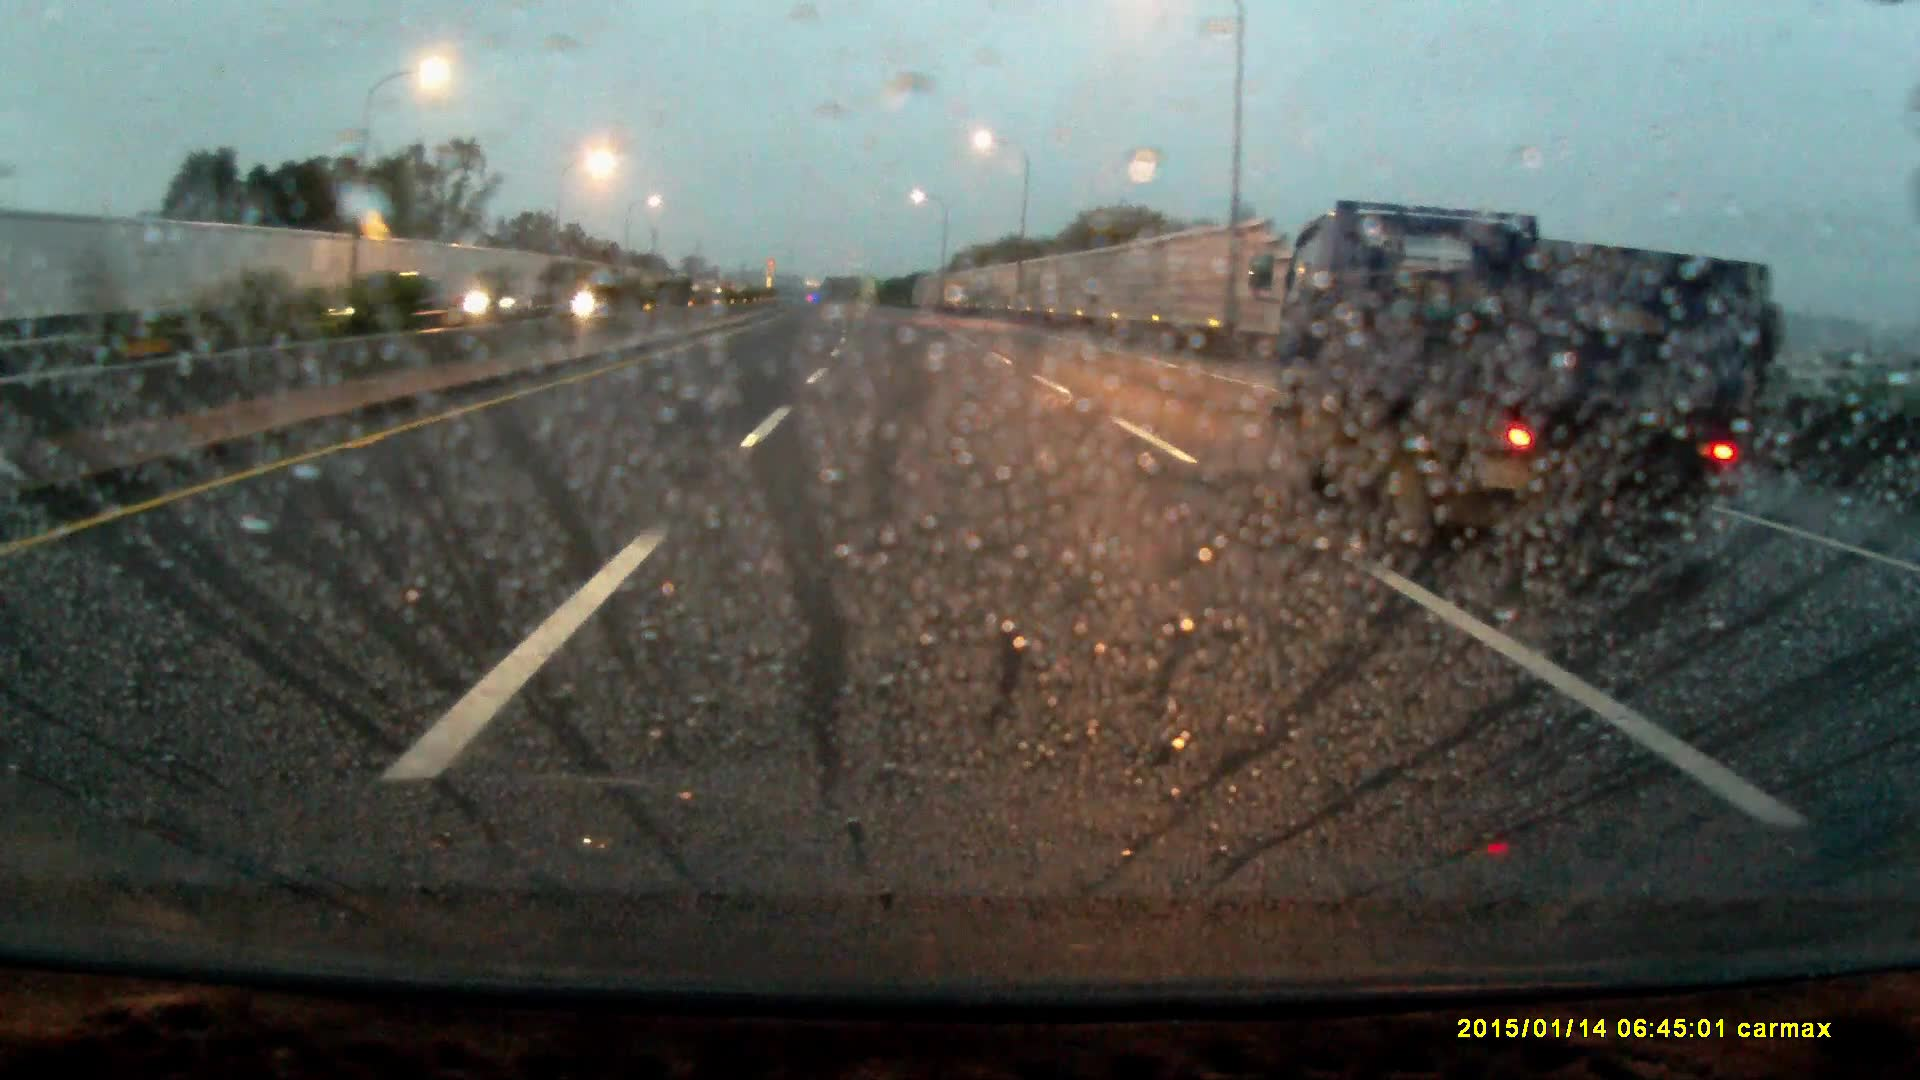vehicle: (1245, 200, 1779, 555), (313, 273, 435, 334), (547, 276, 613, 316), (468, 286, 535, 316)
